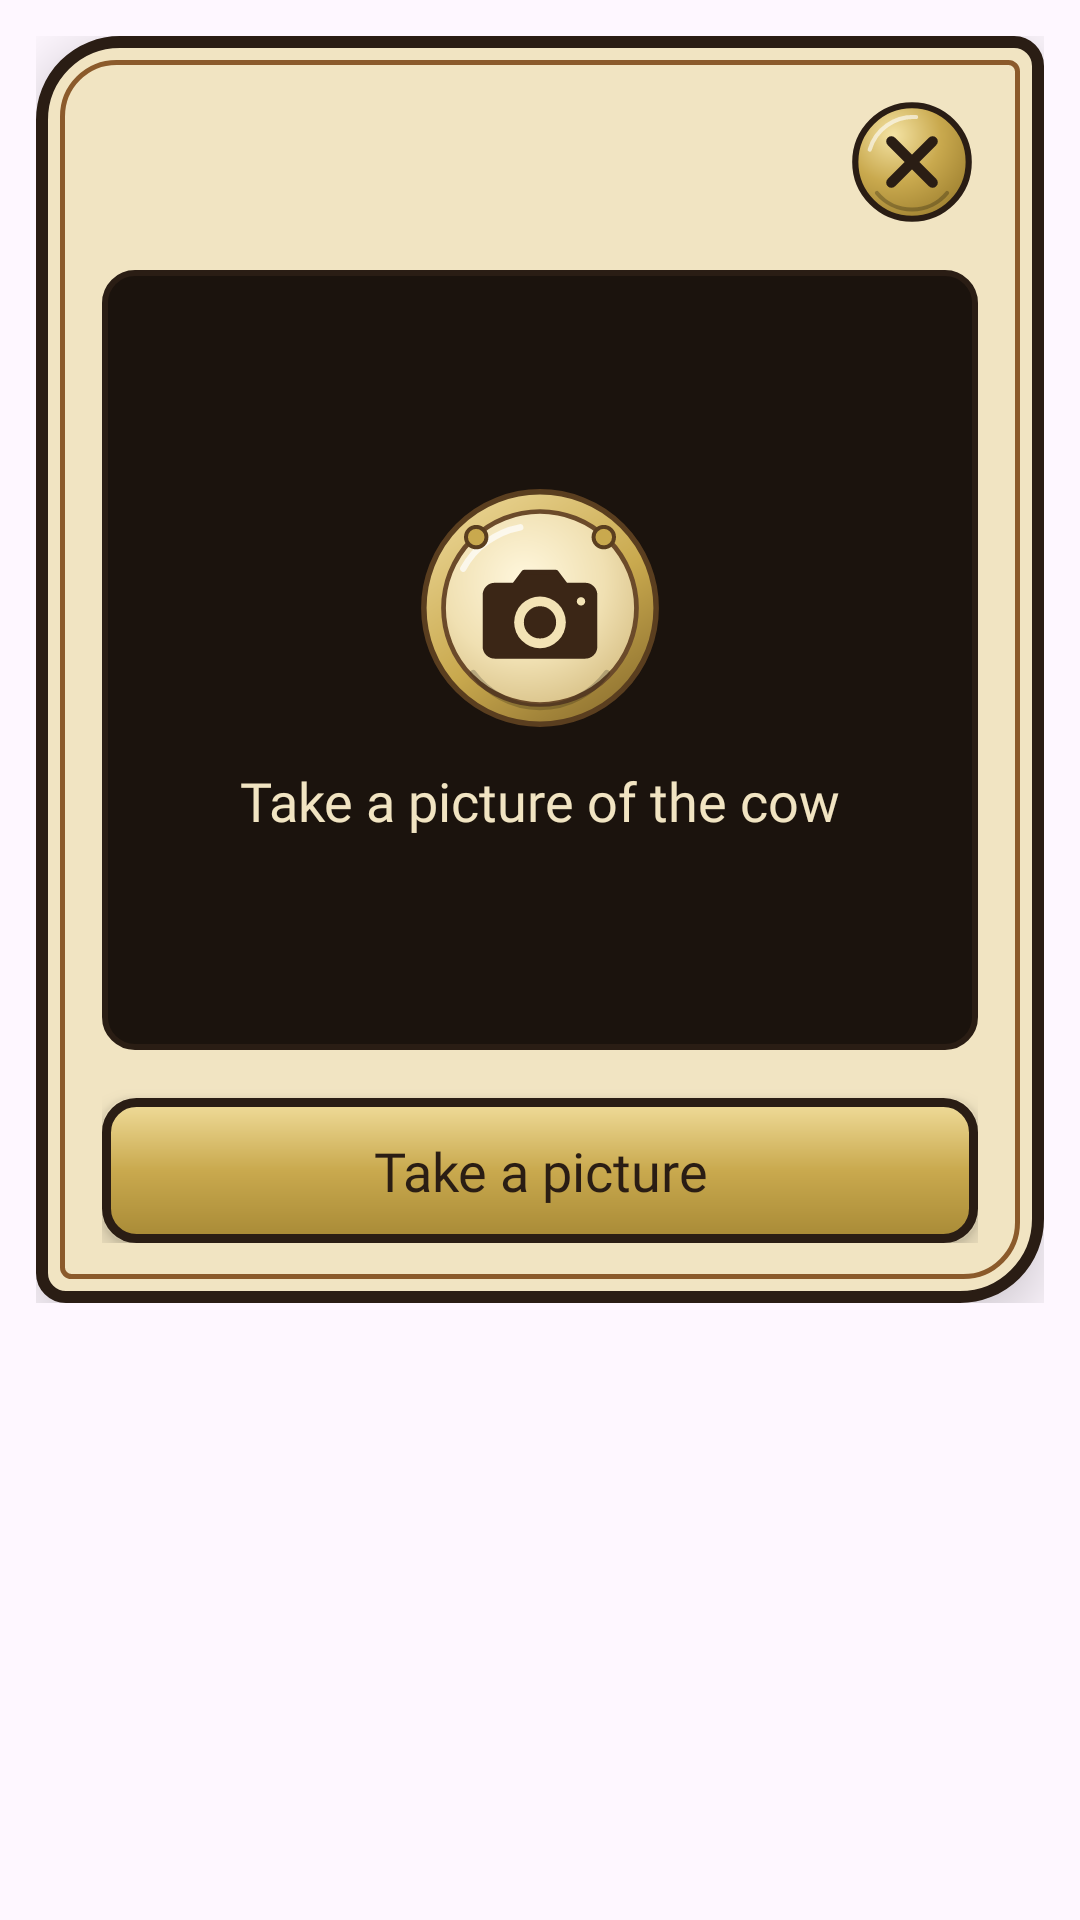

Icon bounding boxes for this 1080×1920 phone screenshot, format box=[x1, y1, x2, y2]:
camera badge: box=[421, 489, 659, 727]
Close: box=[852, 102, 972, 222]
